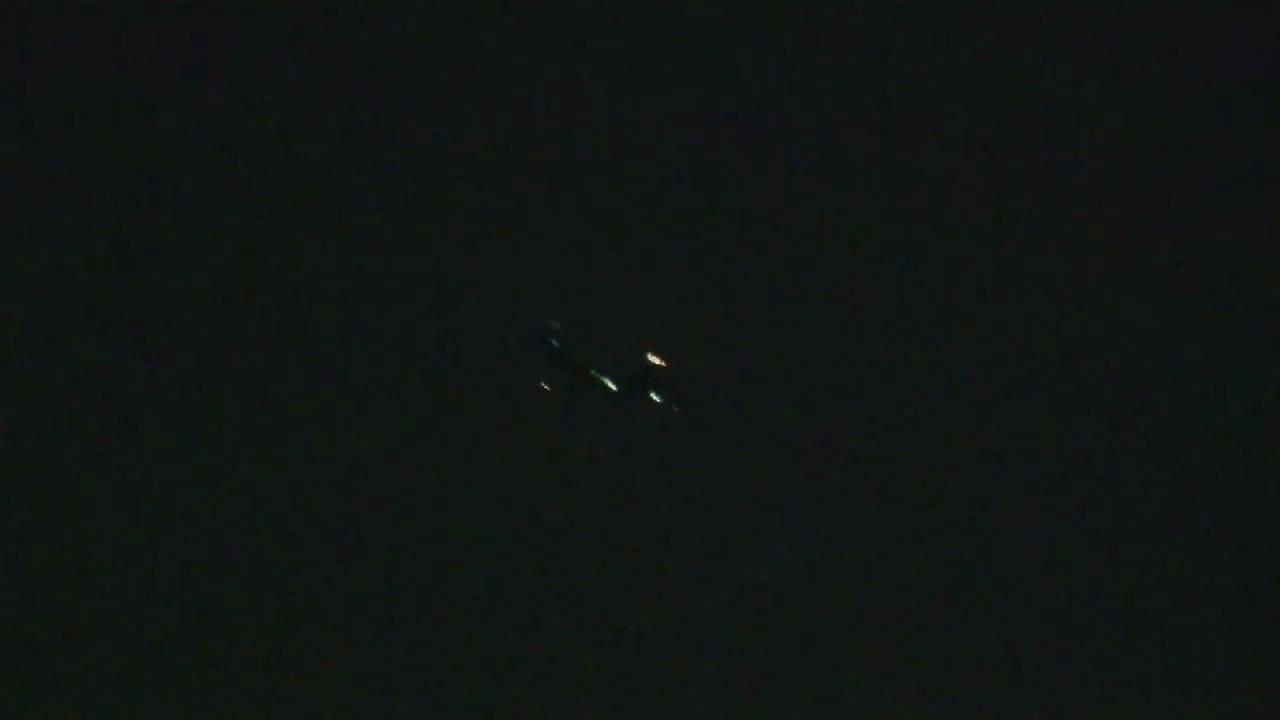Plane: (536, 340, 749, 419)
